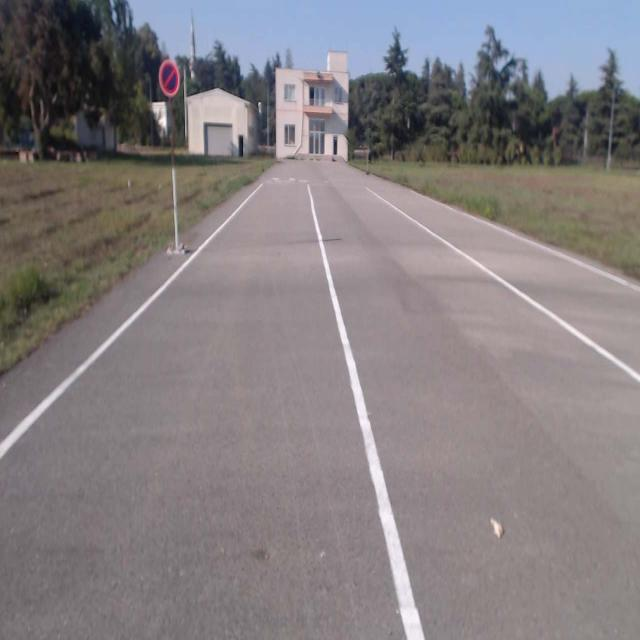parkyasak: (159, 61, 179, 94)
